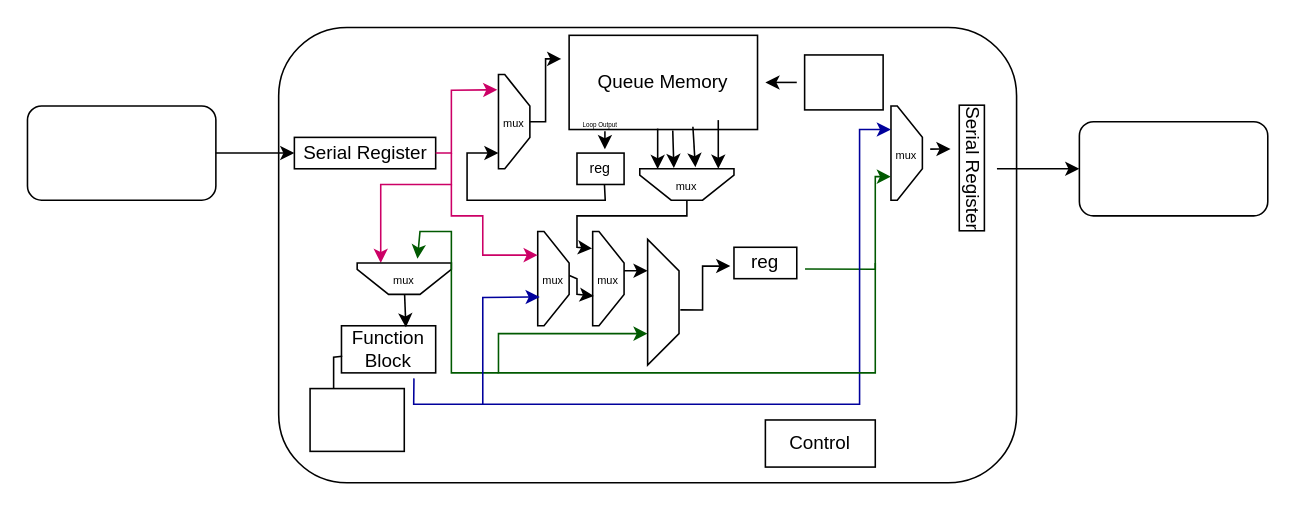
Image size: 1295x510. Some labels were removed from this diagram. Here are the shapes that lost their labels. From the top down, the centre of each, then its label:
point (843, 81): Memory Conroller
point (121, 152): ADC
point (1173, 168): DAC
point (662, 301): ALU
point (356, 419): Function Memory
